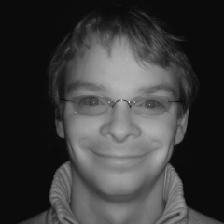happy: (34, 10, 215, 208)
